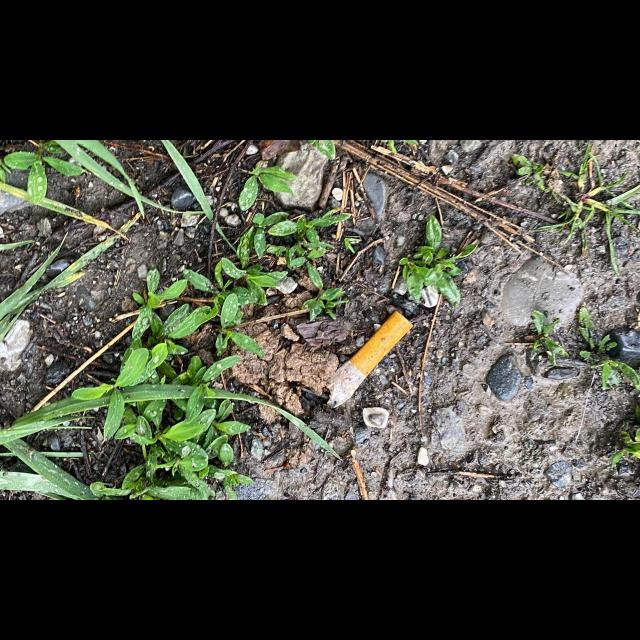cigarette: (325, 309, 414, 409)
